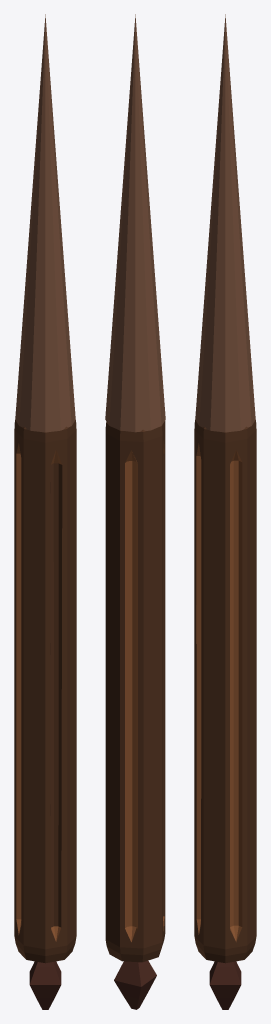
File: Wand 525.glb
3 renders of one model, left to right at view 1: azimuth 90°, elevation 25°; view 2: azimuth 150°, elevation 25°; view 3: azimuth 270°, elevation 25°, orthographic.
Parts seen in each view (by area): view 1: GeneratedWand; view 2: GeneratedWand; view 3: GeneratedWand.
Boxes of the visible parts, <box> form: GeneratedWand: <box>14,14,76,1009</box>; GeneratedWand: <box>105,14,165,1009</box>; GeneratedWand: <box>194,14,256,1009</box>.
Size of the model in its own units: 0.0289 by 0.5111 by 0.0289.
